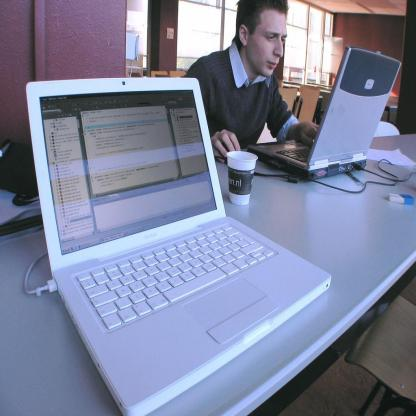board: (25, 75, 332, 416), (245, 47, 402, 179)
